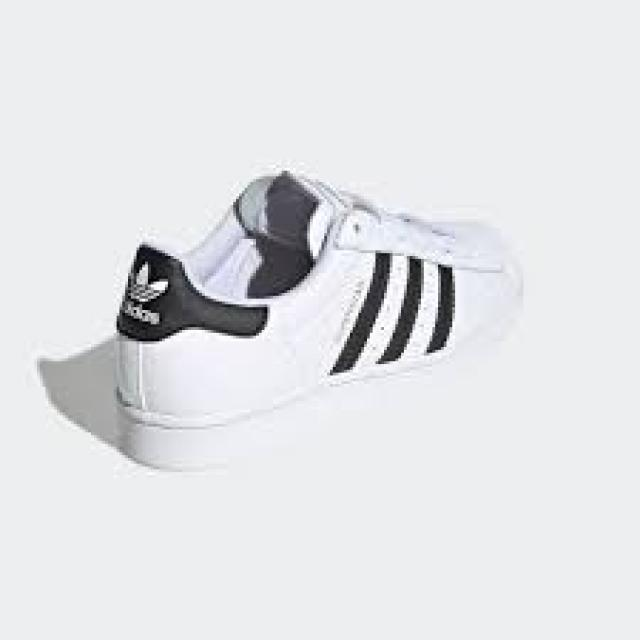shoe: (114, 169, 532, 475)
